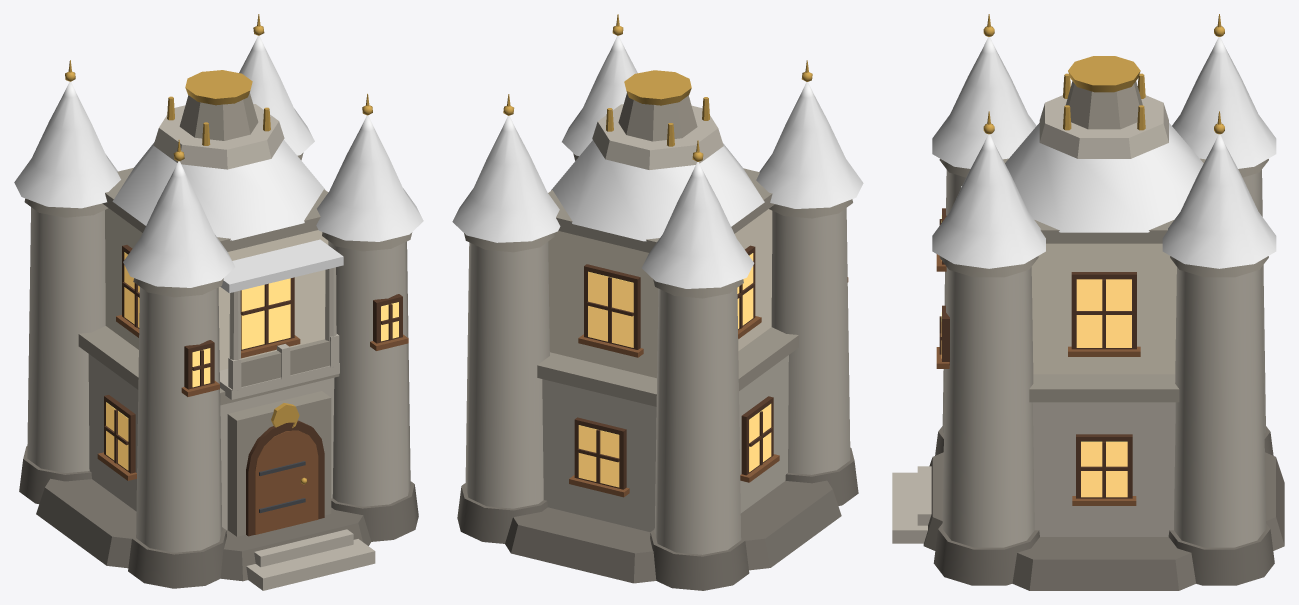
Rendered from district-tier5.glb.
3 views of the same model, side by side, from view 1: azimuth 30°, elevation 25°; view 2: azimuth 150°, elevation 25°; view 3: azimuth 270°, elevation 25° (orthographic). The views are drawn at different scales.
Parts seen in each view (by area): view 1: Part_StoneLight, Part_RoofTint, Part_StoneMid, Part_StoneDark, Part_WoodWarm, KeepUpper, Part_TimberDark, Part_WindowGlow, Part_Brass; view 2: Part_StoneLight, Part_RoofTint, Part_StoneDark, Part_StoneMid, KeepUpper, Part_WindowGlow, Part_TimberDark, Part_Brass, Part_WoodWarm; view 3: Part_StoneLight, Part_RoofTint, Part_StoneDark, KeepUpper, Part_StoneMid, Part_WindowGlow, Part_TimberDark, Part_Brass, Part_WoodWarm.
Part boxes in pixels (x1,y1,x2,y2): Part_StoneLight: [27, 103, 410, 590]; Part_RoofTint: [14, 35, 423, 293]; Part_StoneMid: [24, 92, 412, 536]; Part_StoneDark: [19, 446, 418, 588]; Part_WoodWarm: [97, 315, 408, 534]; KeepUpper: [105, 208, 328, 370]; Part_TimberDark: [104, 245, 402, 536]; Part_WindowGlow: [106, 252, 398, 470]; Part_Brass: [65, 14, 372, 484]; Part_StoneLight: [465, 104, 850, 554]; Part_RoofTint: [452, 36, 863, 288]; Part_StoneDark: [457, 447, 858, 590]; Part_StoneMid: [464, 93, 852, 406]; KeepUpper: [548, 209, 772, 378]; Part_WindowGlow: [578, 253, 771, 487]; Part_TimberDark: [574, 245, 773, 489]; Part_Brass: [503, 14, 812, 161]; Part_WoodWarm: [569, 277, 848, 497]; Part_StoneLight: [892, 95, 1265, 547]; Part_RoofTint: [932, 37, 1276, 268]; Part_StoneDark: [923, 426, 1284, 590]; KeepUpper: [1031, 243, 1176, 374]; Part_StoneMid: [939, 81, 1268, 402]; Part_WindowGlow: [941, 215, 1131, 497]; Part_TimberDark: [939, 208, 1136, 498]; Part_Brass: [983, 14, 1224, 134]; Part_WoodWarm: [936, 254, 1140, 505].
Bounding box in the file's own units: 4.95 × 6.84 × 5.39.
